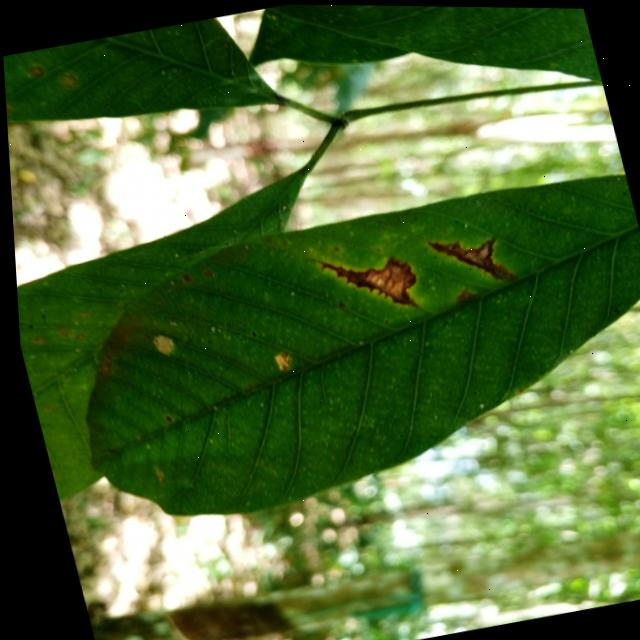Corynespora: (314, 246, 420, 322), (424, 226, 513, 293)
